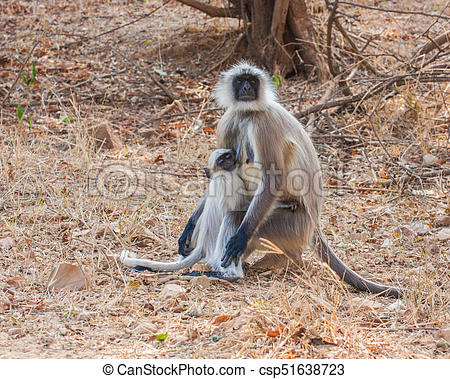langur: (204, 58, 423, 308), (160, 145, 260, 272)
